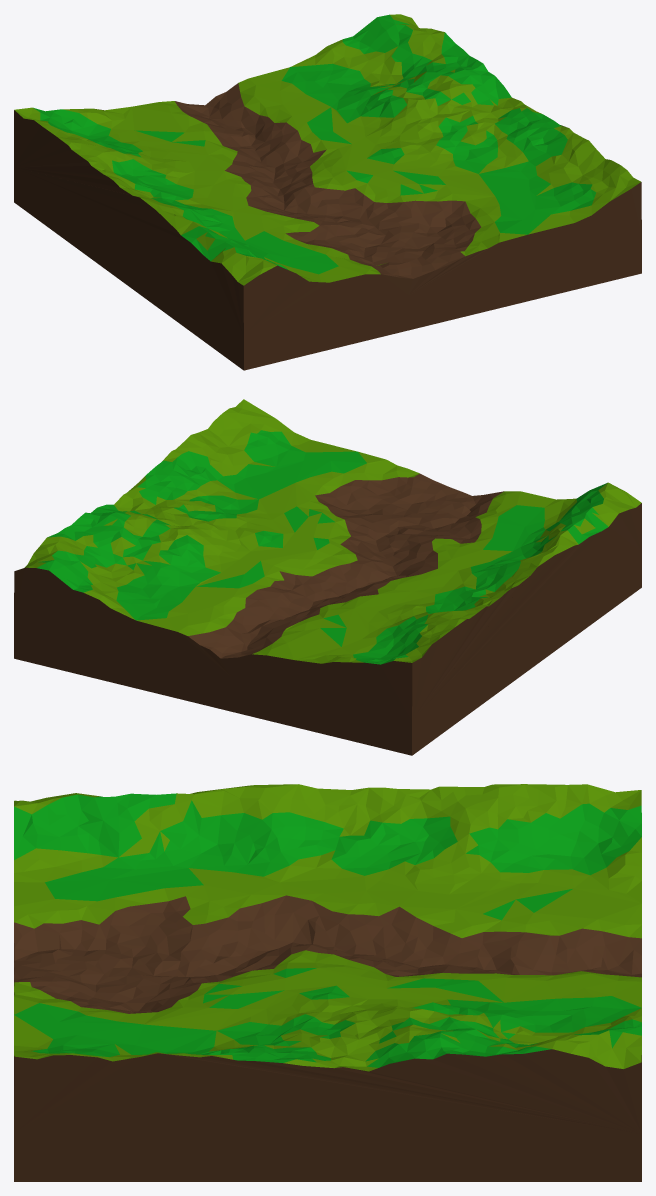
The model's file is Terrain Area1.fbx.
3 renders of one model, top to bottom at view 1: azimuth 30°, elevation 25°; view 2: azimuth 150°, elevation 25°; view 3: azimuth 270°, elevation 25°, orthographic. The views are drawn at different scales.
Visible parts, largest first — view 1: Terrain; view 2: Terrain; view 3: Terrain.
Part boxes in pixels (x1,y1,x2,y2): Terrain: (14, 14, 641, 370); Terrain: (14, 399, 641, 755); Terrain: (14, 784, 641, 1181).
Bounding box in the file's own units: 1200 × 280 × 1200.
